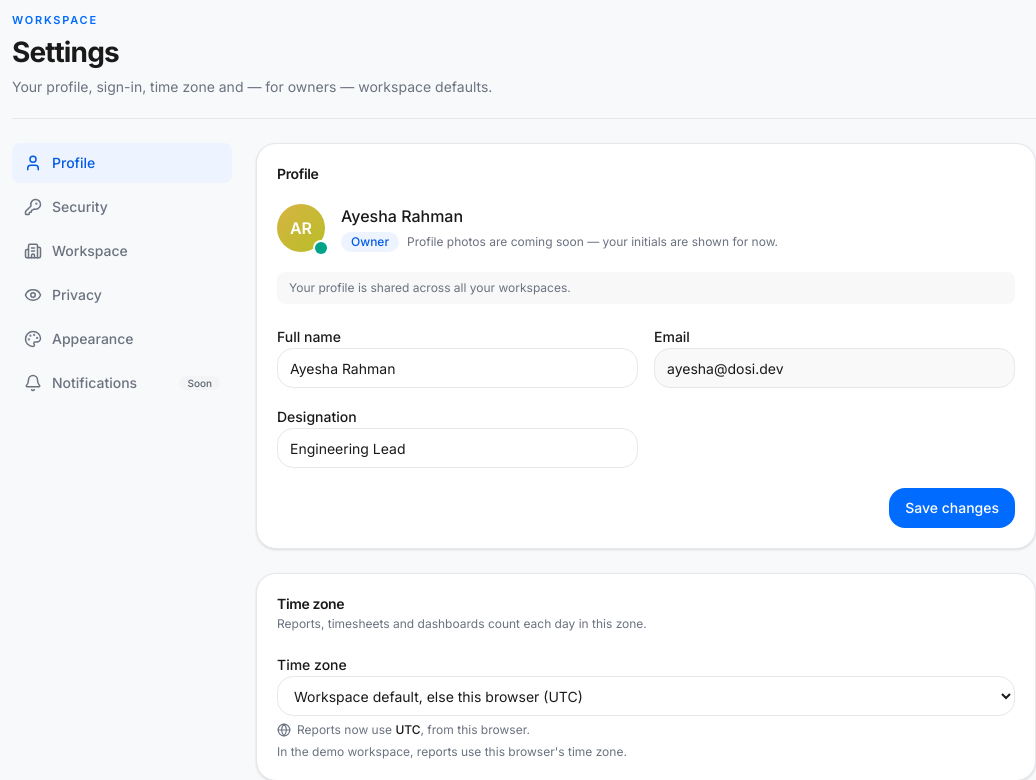
Test: settings page — demo mode (no backend session) › says plainly that nothing is saved in the demo workspace — never a false 'Saved'
Click the button "Save changes". click: [952, 508]
box: [889,488,1015,528]
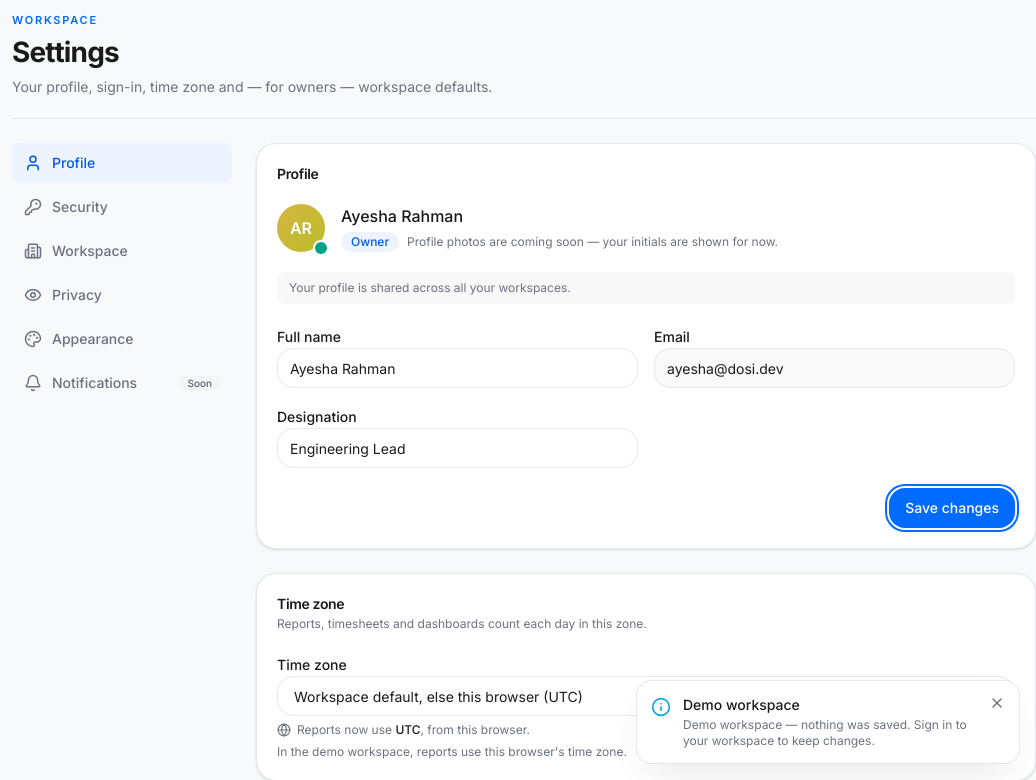
Now the text "Demo workspace — nothing was saved" is shown, box [683,717,967,748]
